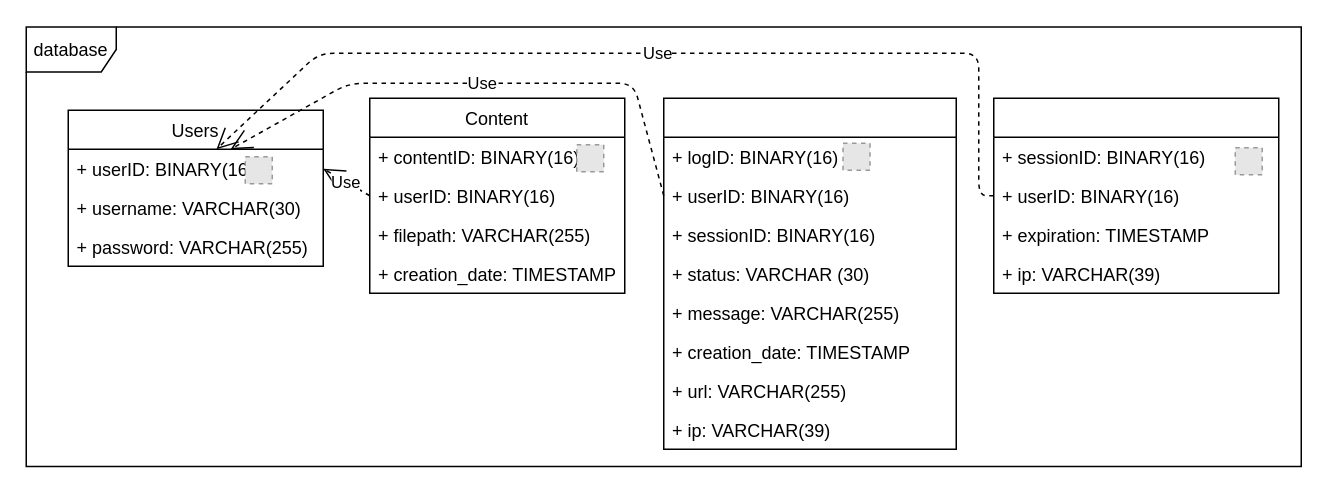
Some shapes in this 1328 by 492 pixel diagram are drawn without their labels. Grey dashed boxes stand in for pictures. The shapes that lost their labels are listed below. From the top down, each one's box as (x1, y1, x2, y2) in pixels, then its label:
(992, 97, 1279, 293): Sessions
(662, 97, 956, 449): Logs
